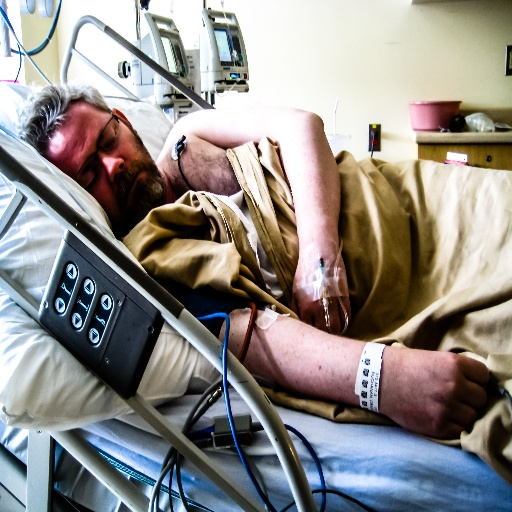hand: (398, 347, 490, 438), (291, 250, 350, 335)
